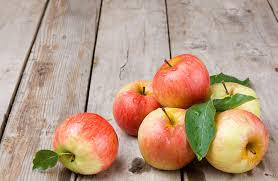apple: (53, 116, 120, 172), (145, 110, 195, 166), (212, 120, 266, 170), (161, 53, 209, 102), (119, 79, 147, 128), (213, 82, 260, 111)
